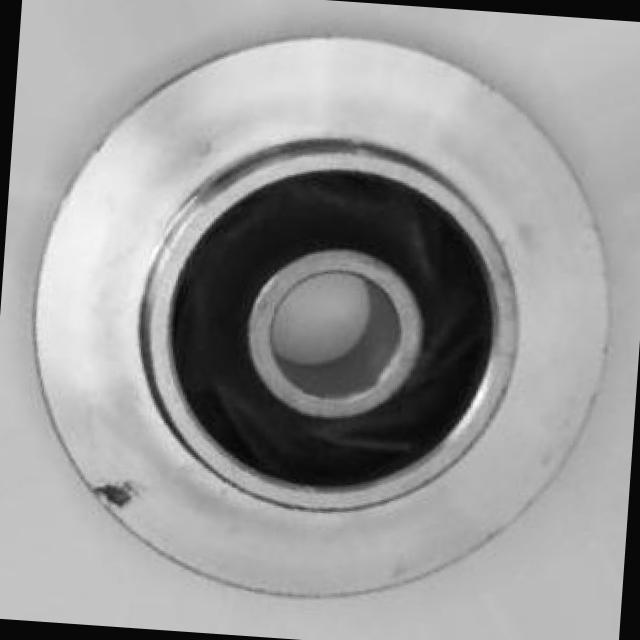Defect: (94, 472, 139, 513)
